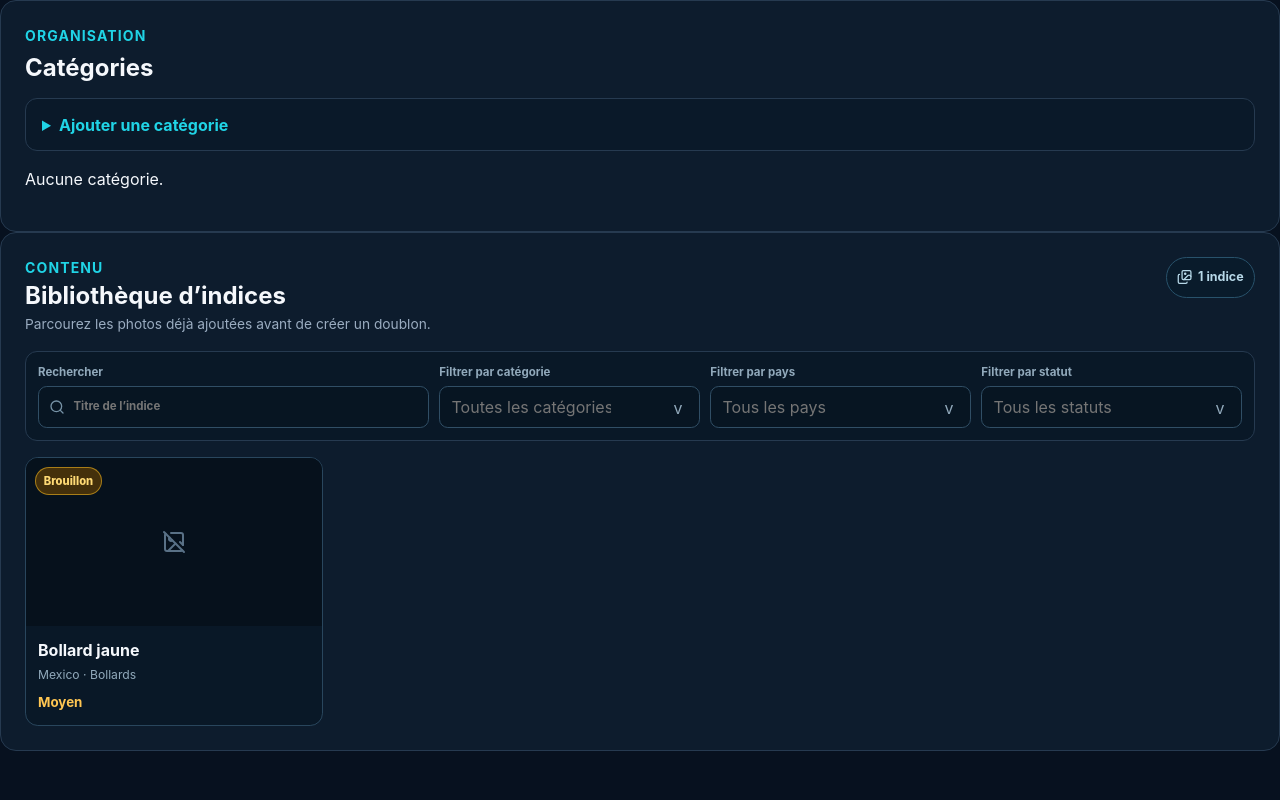
Test: deletes a clue from its preview after confirmation
The image size is (1280, 800).
Click the button with aria-label "Voir Bollard jaune".
click(174, 591)  # box x1=25 y1=457 x2=323 y2=726
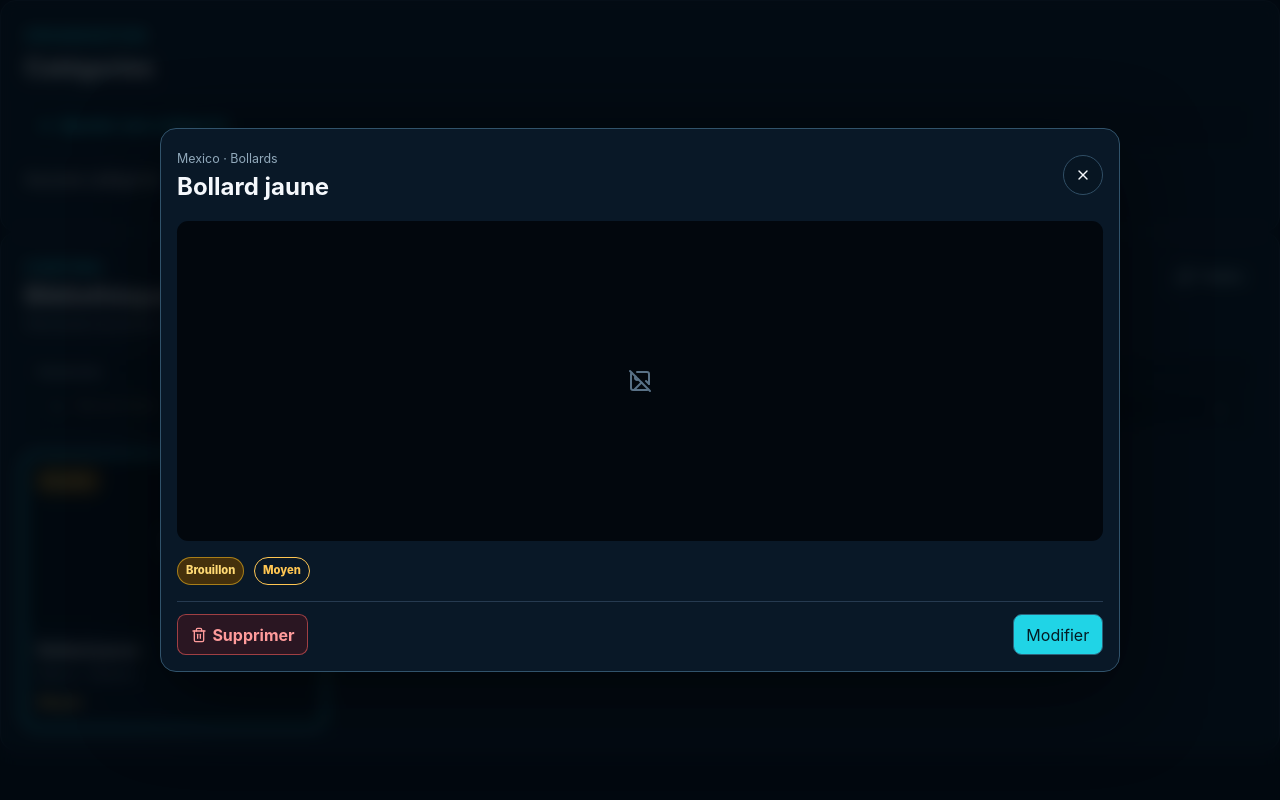
Click the button "Supprimer".
click(243, 635)  # box x1=177 y1=614 x2=308 y2=656
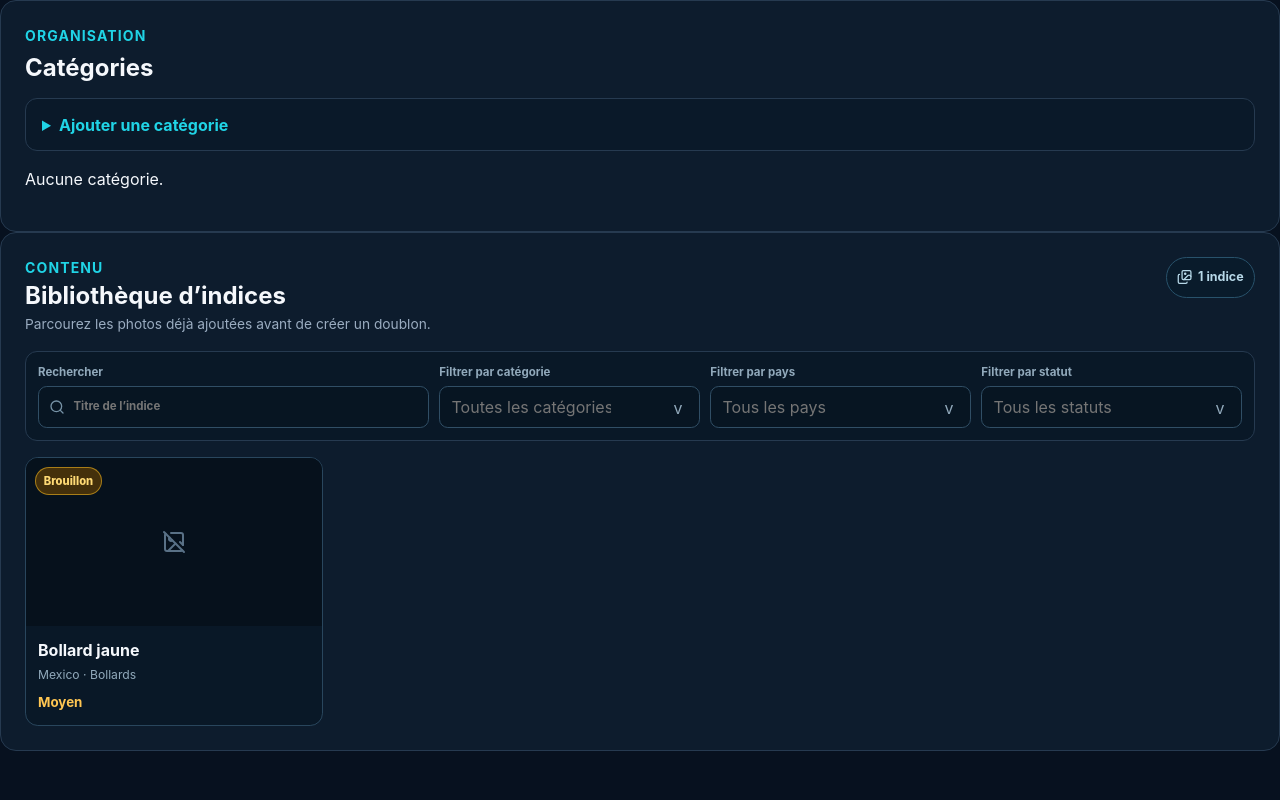
Now the dialog is gone
